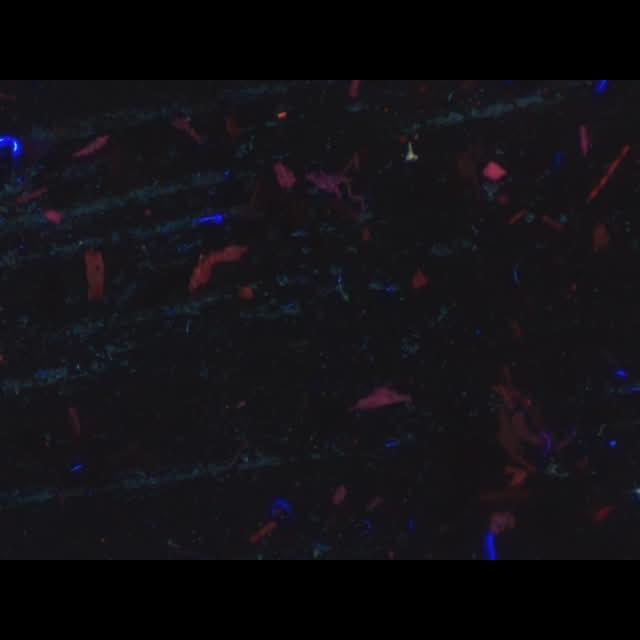Fragment: (188, 248, 245, 288)
